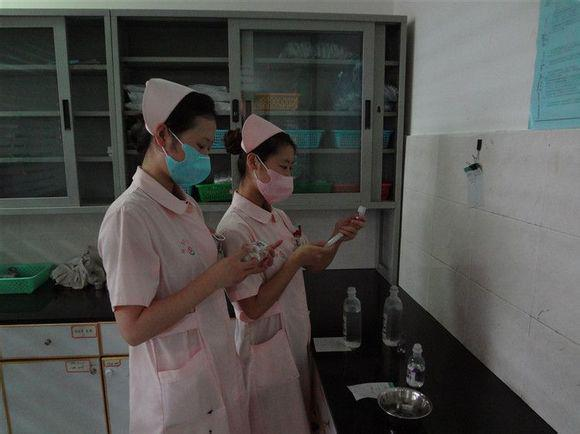OK: (162, 133, 217, 189), (246, 153, 296, 205)
